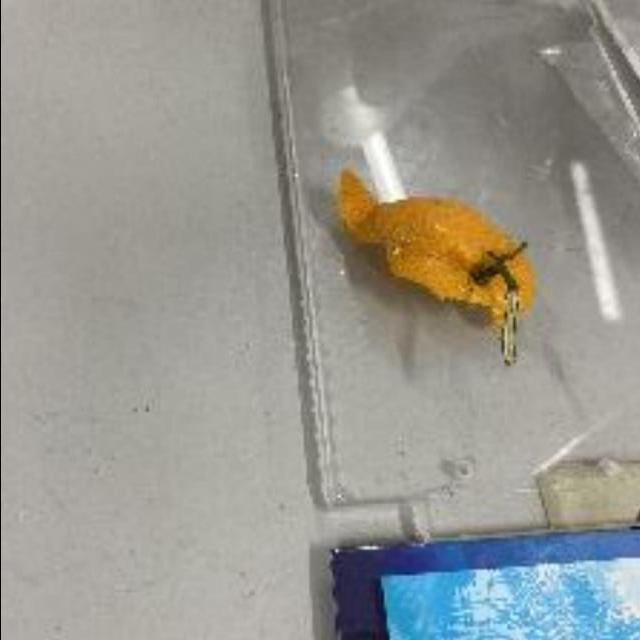orange peel: (335, 174, 536, 336)
